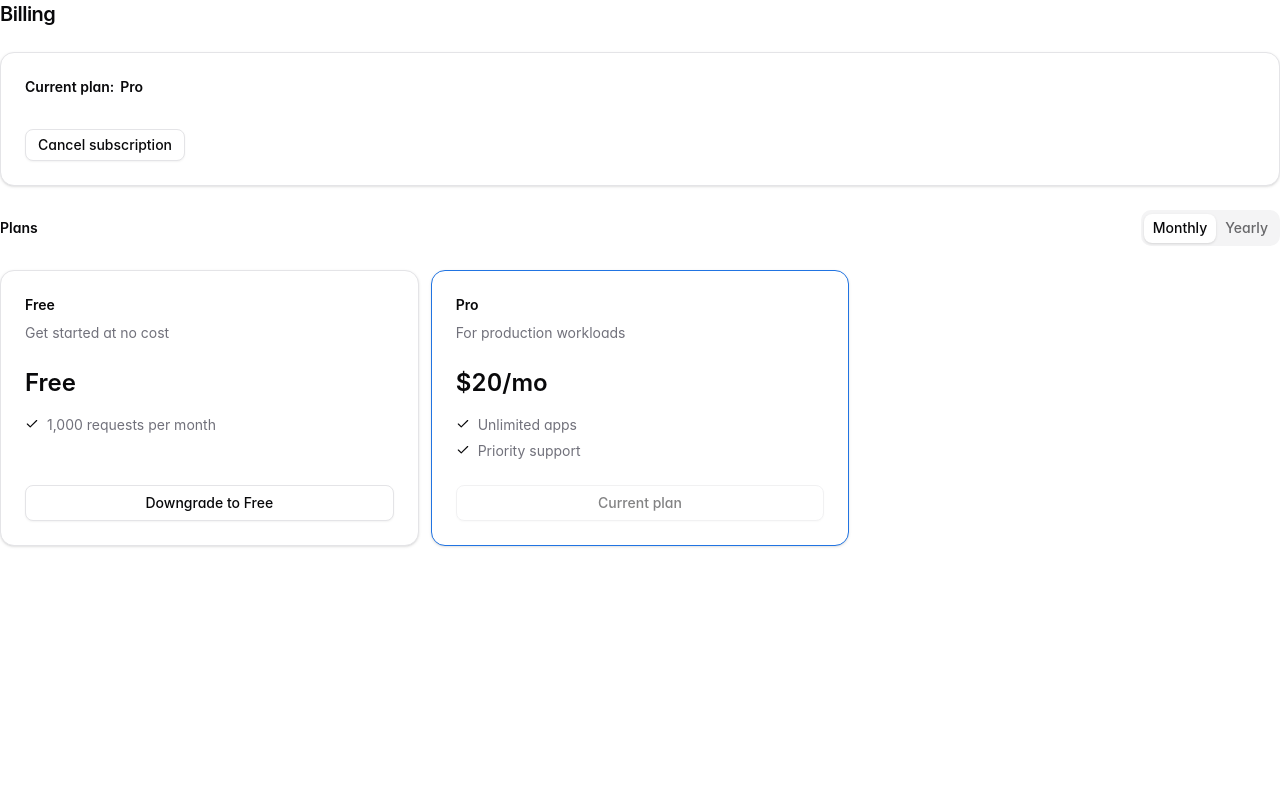
it: BillingPage › leaves a paid plan through the cancellation dialog
Click the button "Downgrade to Free" at [209, 503], box [25,485,394,521]
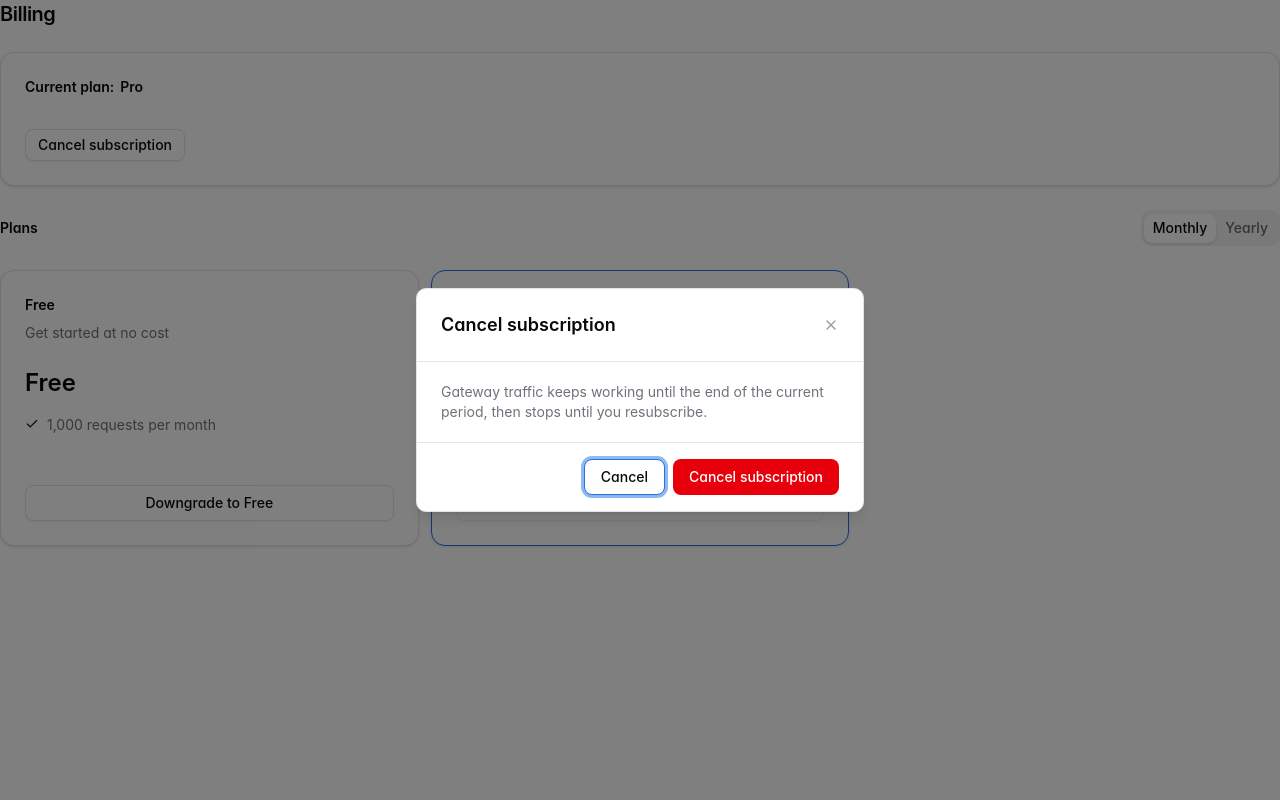
Result: the heading "Cancel subscription" is shown at [441,314,616,335]
